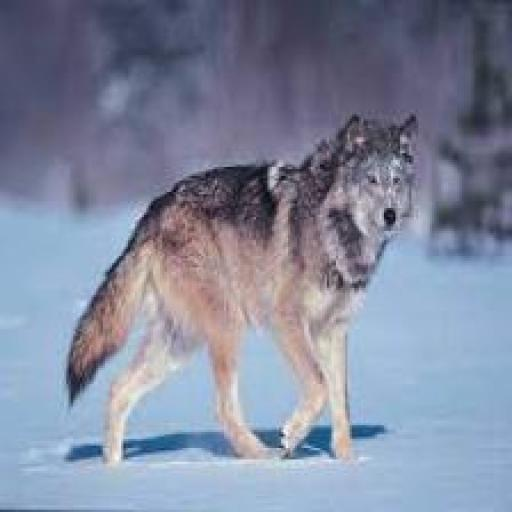wolf: (62, 94, 456, 498)
